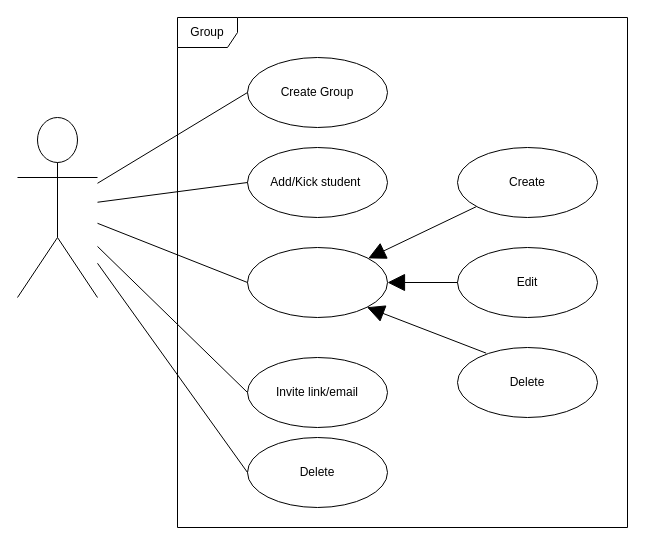
Image size: 645x545. Some labels were removed from this diagram. Here are the shapes that lost their labels. From the top down, the box of each, then its label:
(16, 116, 98, 298): Teacher
(246, 246, 388, 318): Post/Exercsise
